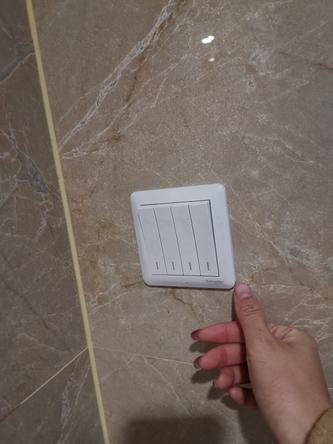switch: (188, 197, 220, 278), (134, 200, 166, 276), (170, 201, 202, 277), (152, 200, 183, 276)
